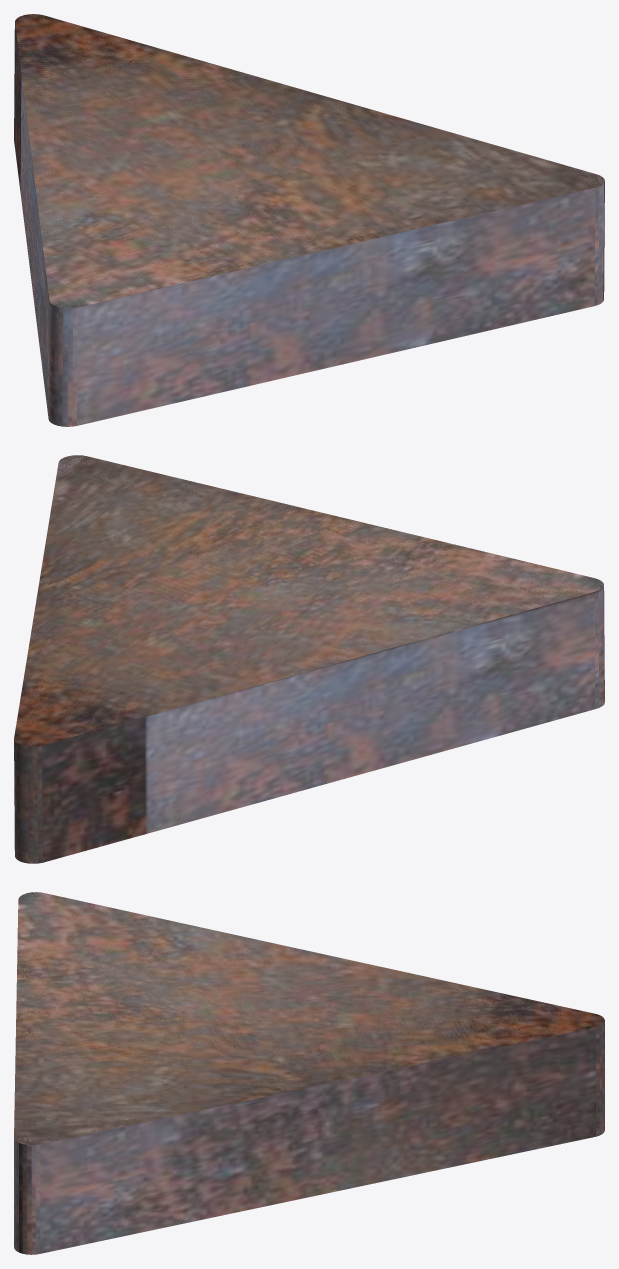
File: triangle_copper.fbx
3 renders of one model, top to bottom at view 1: azimuth 30°, elevation 25°; view 2: azimuth 150°, elevation 25°; view 3: azimuth 270°, elevation 25°, orthographic. The views are drawn at different scales.
Parts seen in each view (by area): view 1: Model; view 2: Model; view 3: Model.
Part boxes in pixels (x1=…): Model: x1=14, y1=14, x2=604, y2=426; Model: x1=14, y1=455, x2=604, y2=863; Model: x1=14, y1=892, x2=604, y2=1254.
Size of the model in its own units: 4.86 by 1.04 by 4.87.
